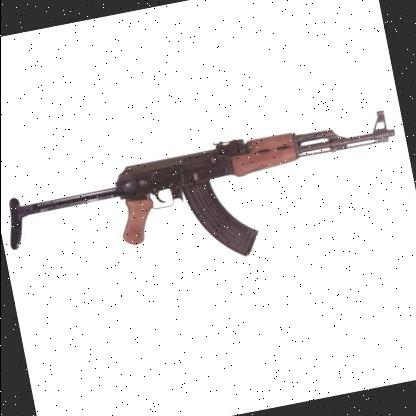rifle: (0, 81, 416, 322)
